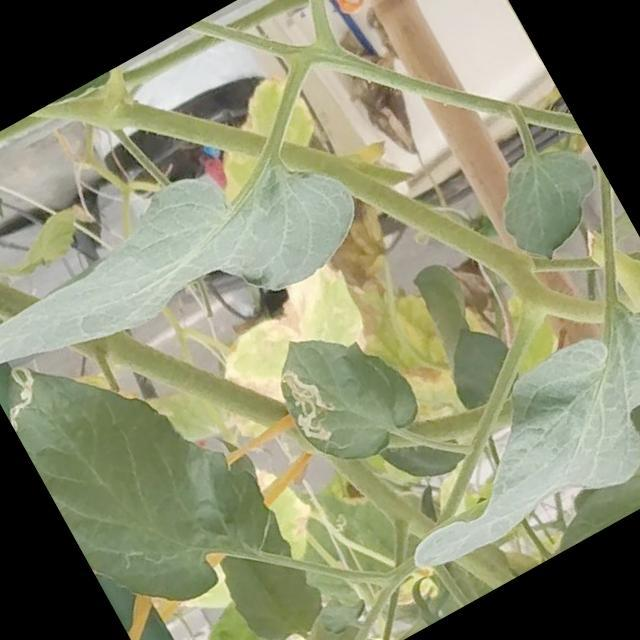Tomato target spot leaf: (0, 285, 295, 639), (253, 297, 438, 489)
